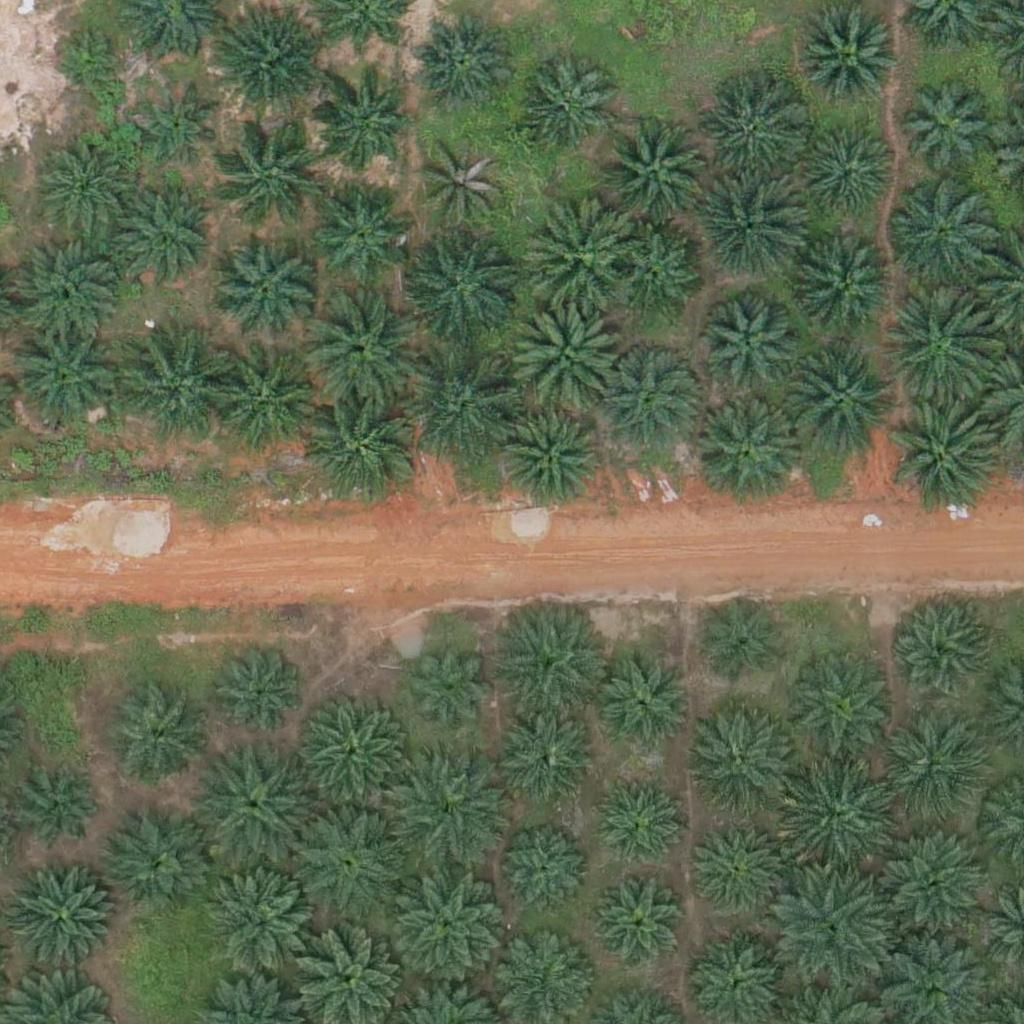Kelapa_Sawit: (393, 872, 506, 986), (878, 291, 991, 405), (694, 392, 807, 506), (781, 344, 894, 458), (393, 757, 506, 870), (291, 698, 404, 811), (205, 868, 318, 981), (775, 878, 888, 991), (676, 705, 789, 818), (693, 171, 806, 284), (305, 392, 418, 505), (10, 233, 123, 346), (7, 321, 120, 434), (290, 804, 402, 918), (781, 650, 893, 764), (493, 599, 605, 713), (885, 175, 997, 289), (217, 113, 329, 227), (115, 330, 227, 444), (203, 747, 315, 860), (8, 863, 120, 976), (780, 765, 892, 878), (890, 402, 1002, 515), (598, 115, 710, 228), (521, 198, 633, 311), (508, 296, 620, 409), (410, 351, 522, 464), (406, 230, 518, 343), (304, 292, 416, 405), (205, 349, 317, 462), (208, 10, 320, 123), (209, 641, 309, 742), (104, 814, 204, 915), (885, 830, 985, 931), (591, 872, 691, 973), (495, 711, 595, 812), (897, 80, 997, 181), (699, 301, 799, 402), (600, 345, 700, 446), (514, 56, 614, 157), (310, 76, 410, 177), (212, 238, 312, 339), (112, 189, 212, 290), (108, 691, 208, 791), (878, 717, 978, 817), (889, 600, 989, 700), (587, 770, 687, 870), (594, 646, 694, 746), (800, 10, 900, 110), (800, 126, 900, 226), (796, 242, 896, 342), (702, 86, 802, 186), (499, 408, 599, 508), (411, 11, 511, 111), (310, 180, 410, 280), (35, 137, 135, 237), (698, 596, 786, 684), (691, 824, 779, 912), (610, 229, 698, 317), (135, 83, 223, 171), (410, 644, 497, 732), (17, 765, 104, 853), (505, 829, 592, 917), (420, 142, 507, 230), (52, 22, 127, 97)
